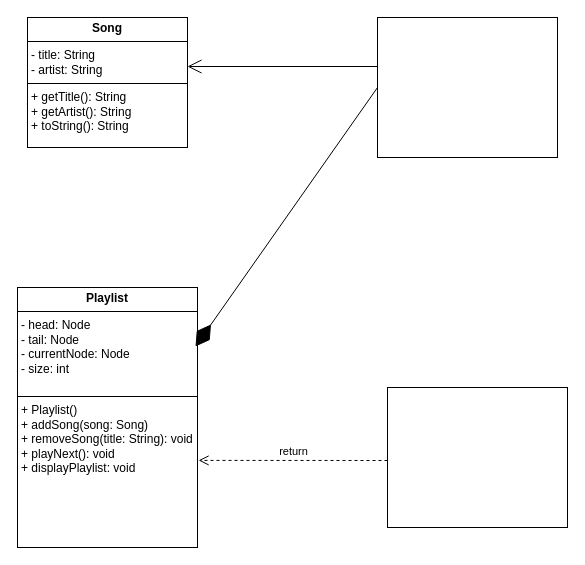
This 585x565 diagram has some shape labels left out. Each missing label, with the centre of its shape:
Playlist.Node - song: Song - next: Node + Node(song: Song): [467,87]
PlaylistManager + main(args:String[]): void - menu(): void: [477,457]
